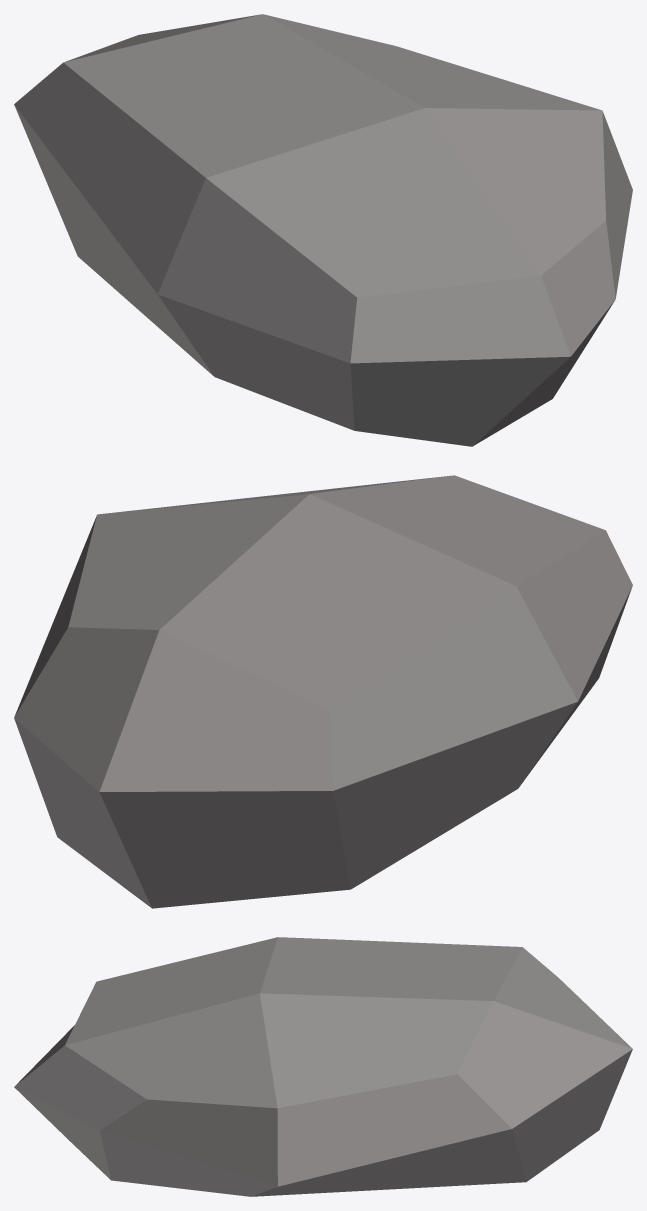
File: stone_1.glb
3 views of the same model, one above another, from view 1: azimuth 30°, elevation 25°; view 2: azimuth 150°, elevation 25°; view 3: azimuth 270°, elevation 25° (orthographic). The views are drawn at different scales.
Visible parts, largest first — view 1: stone_1; view 2: stone_1; view 3: stone_1.
Boxes of the visible parts, x1,y1,x2,y2 form: stone_1: (14, 14, 632, 446); stone_1: (14, 475, 632, 908); stone_1: (14, 937, 632, 1196).
Bounding box in the file's own units: 0.226 × 0.1125 × 0.3278.
Materials: 1 (1 with a texture image).
